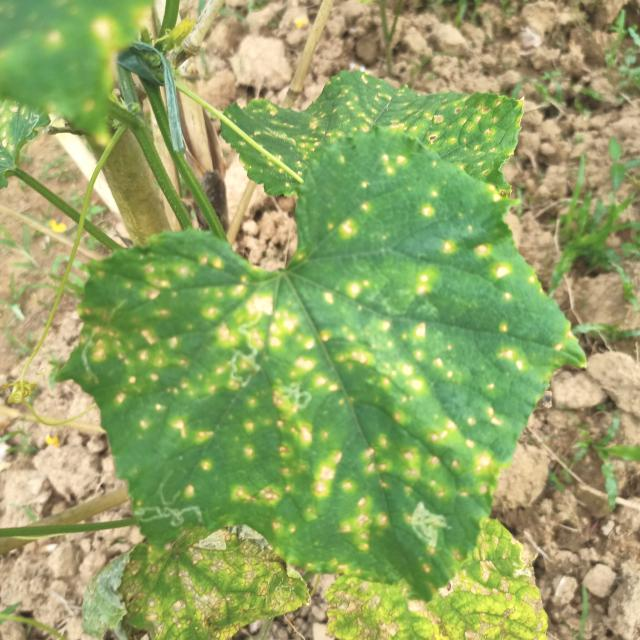disease_cucumber: (76, 254, 550, 566), (336, 199, 371, 242), (439, 236, 492, 258), (380, 150, 407, 179), (421, 184, 441, 223)
